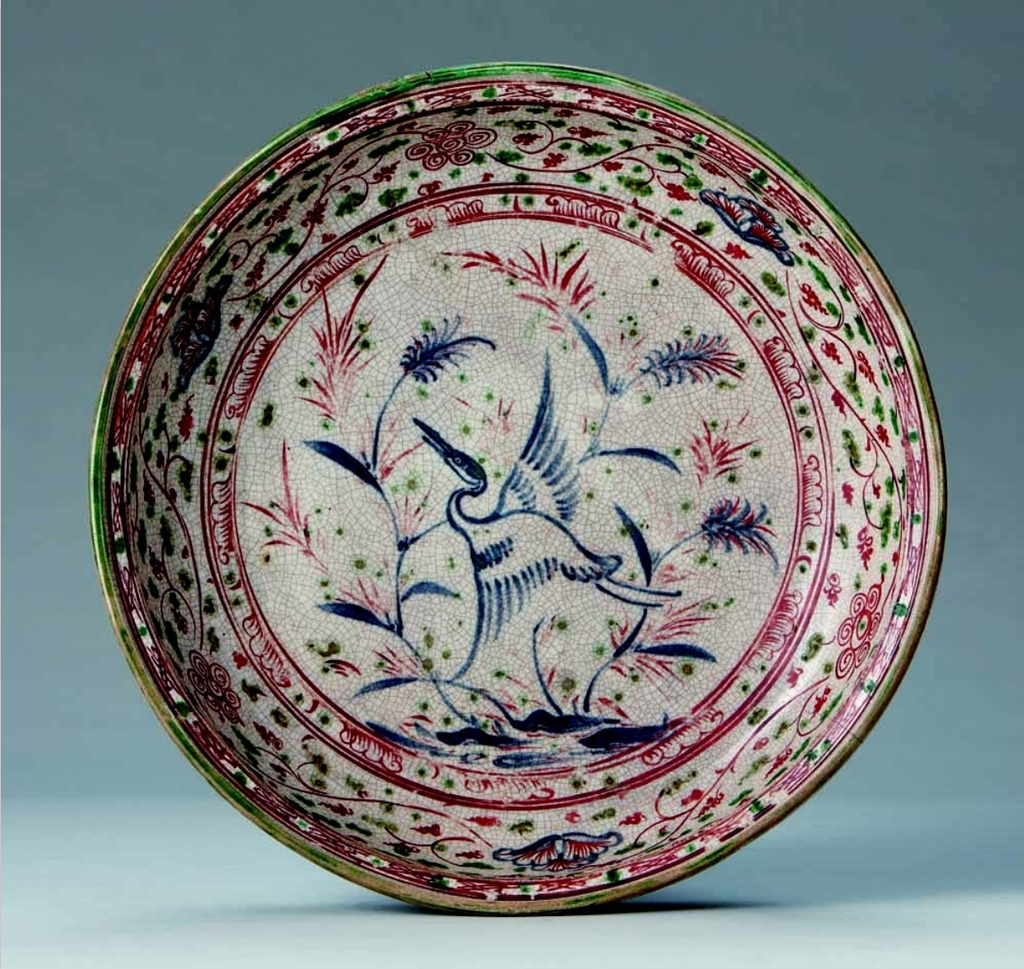plate: (89, 66, 946, 916)
